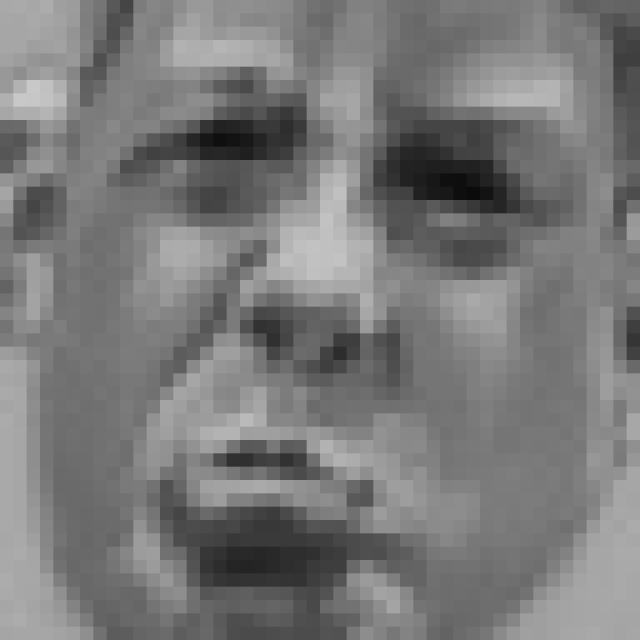sad: (103, 47, 592, 596)
